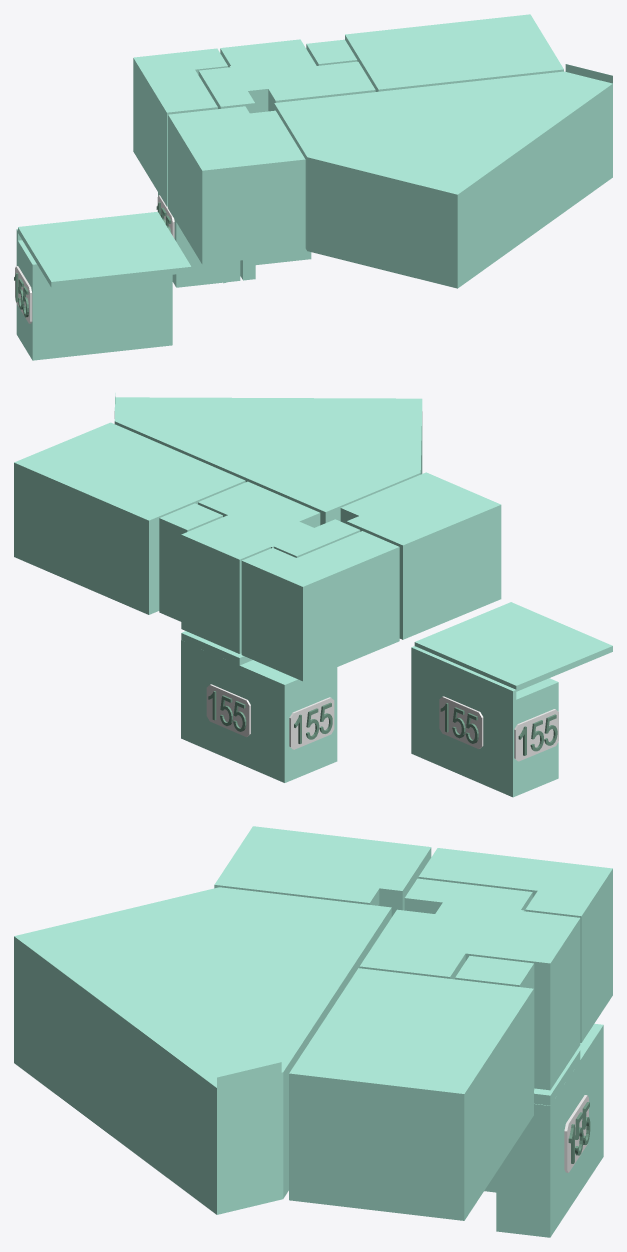
The picture shows the model from 3 angles, top to bottom: view 1: azimuth 30°, elevation 25°; view 2: azimuth 150°, elevation 25°; view 3: azimuth 270°, elevation 25°; orthographic projection. The views are drawn at different scales.
Visible parts, largest first — view 1: g_2, g_7, g_3, g_1, g_10, g_6, g_4, g_0, g_8, g_5, g_9; view 2: g_3, g_2, g_6, g_7, g_1, g_10, g_8, g_0, g_9, g_4, g_5, g_22 (+3 smaller); view 3: g_2, g_3, g_7, g_6, g_4, g_9, g_8, g_0, g_5, g_18.
Part boxes in pixels (left/top/right/bottom): g_2: left=274, top=64, right=612, bottom=288; g_7: left=168, top=106, right=305, bottom=264; g_3: left=345, top=14, right=563, bottom=91; g_1: left=16, top=229, right=172, bottom=360; g_10: left=18, top=211, right=191, bottom=287; g_6: left=133, top=48, right=227, bottom=206; g_4: left=198, top=58, right=375, bottom=113; g_0: left=158, top=192, right=240, bottom=287; g_8: left=220, top=39, right=311, bottom=67; g_5: left=306, top=39, right=357, bottom=65; g_9: left=240, top=249, right=311, bottom=280; g_3: left=14, top=422, right=245, bottom=614; g_2: left=114, top=393, right=422, bottom=525; g_6: left=241, top=531, right=399, bottom=681; g_7: left=340, top=472, right=501, bottom=639; g_1: left=411, top=646, right=558, bottom=797; g_10: left=414, top=602, right=612, bottom=691; g_8: left=181, top=521, right=270, bottom=653; g_0: left=253, top=666, right=337, bottom=782; g_9: left=181, top=631, right=265, bottom=769; g_4: left=198, top=481, right=360, bottom=557; g_5: left=159, top=503, right=222, bottom=621; g_22: left=289, top=697, right=334, bottom=749; g_2: left=14, top=887, right=391, bottom=1214; g_3: left=289, top=968, right=533, bottom=1220; g_7: left=214, top=826, right=431, bottom=916; g_6: left=418, top=848, right=612, bottom=1042; g_4: left=359, top=878, right=532, bottom=979; g_9: left=484, top=1048, right=587, bottom=1237; g_8: left=490, top=911, right=580, bottom=1090; g_0: left=578, top=1023, right=603, bottom=1180; g_5: left=455, top=956, right=534, bottom=1089; g_18: left=564, top=1095, right=588, bottom=1172.
Bounding box in the file's own units: 14.37 × 5.4 × 10.27.
